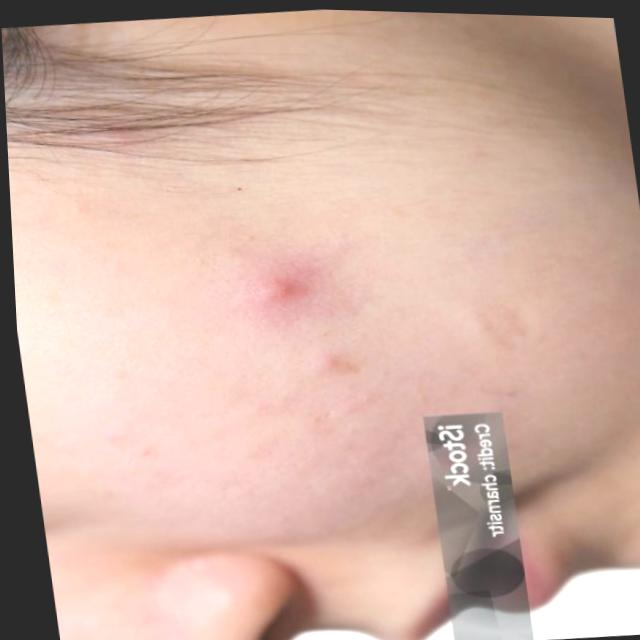papule: (199, 251, 348, 337), (309, 330, 384, 394)
